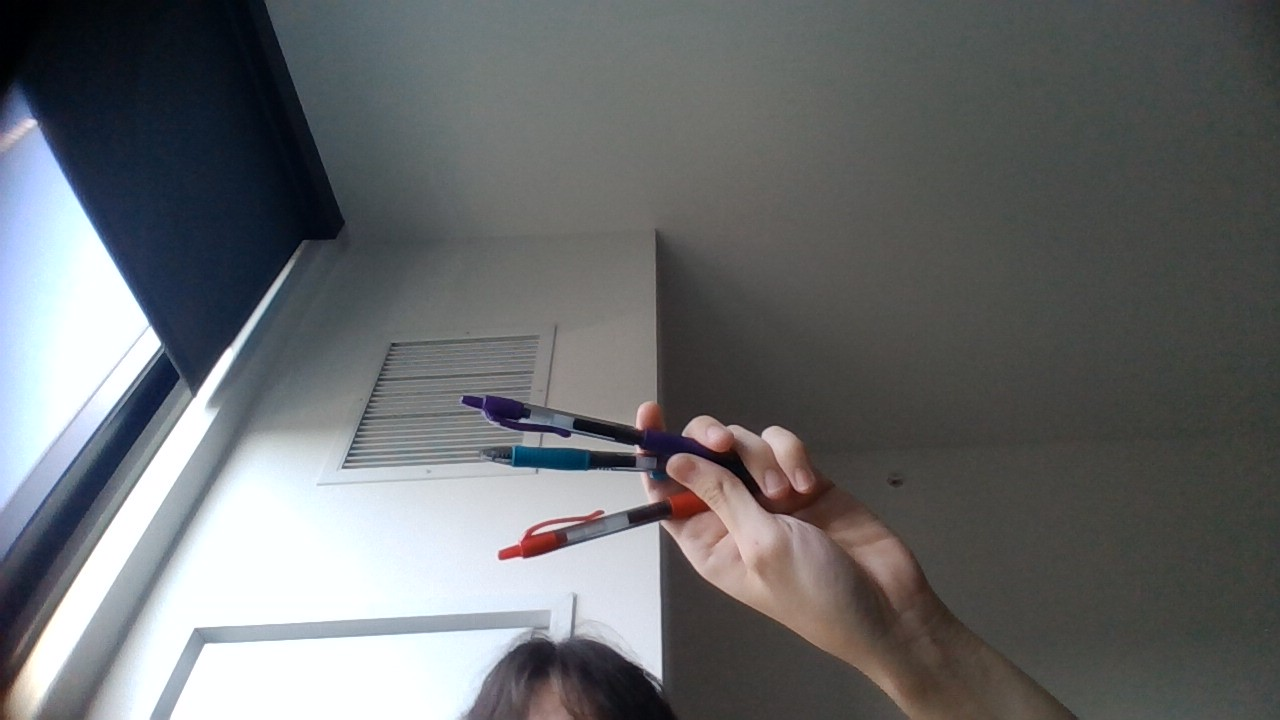Blue Pen: (480, 448, 675, 474)
Purple Pen: (460, 388, 743, 469)
Red Pen: (499, 490, 709, 562)
